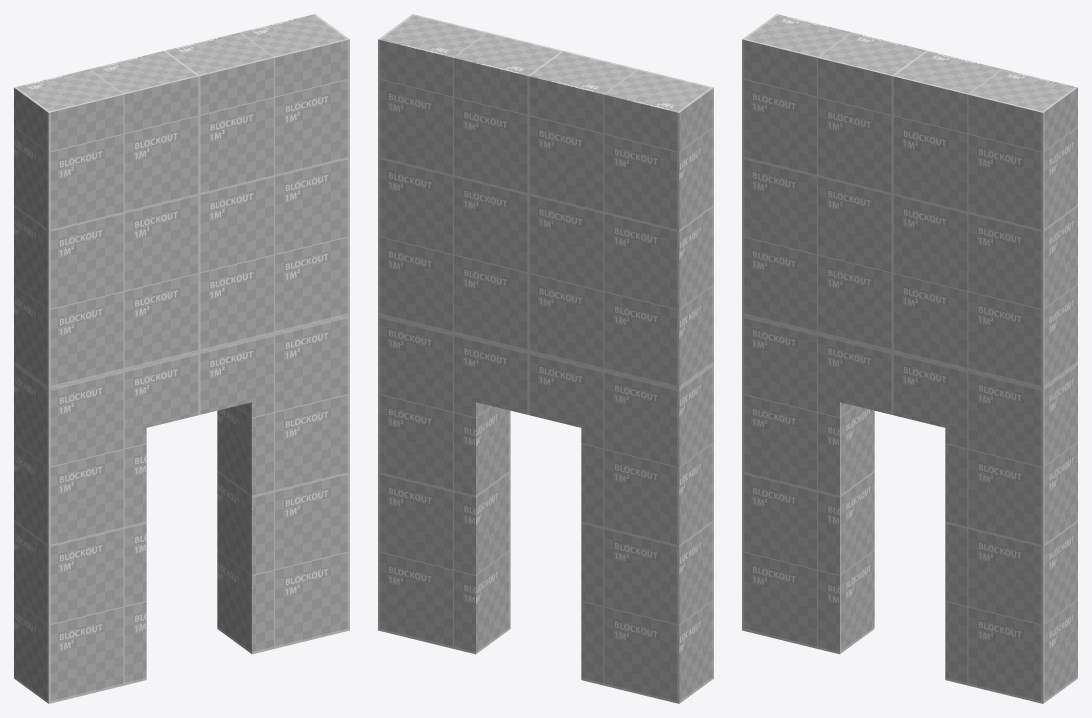
The model's file is BlockoutThickWall04Door.fbx.
3 renders of one model, left to right at view 1: azimuth 30°, elevation 25°; view 2: azimuth 150°, elevation 25°; view 3: azimuth 330°, elevation 25°, orthographic.
Parts seen in each view (by area): view 1: BlockoutThickWall04Door; view 2: BlockoutThickWall04Door; view 3: BlockoutThickWall04Door.
Boxes of the visible parts, left/top/right/bottom form: BlockoutThickWall04Door: left=14, top=14, right=349, bottom=703; BlockoutThickWall04Door: left=378, top=14, right=713, bottom=703; BlockoutThickWall04Door: left=742, top=14, right=1077, bottom=703.
Size of the model in its own units: 400 by 750 by 80.
